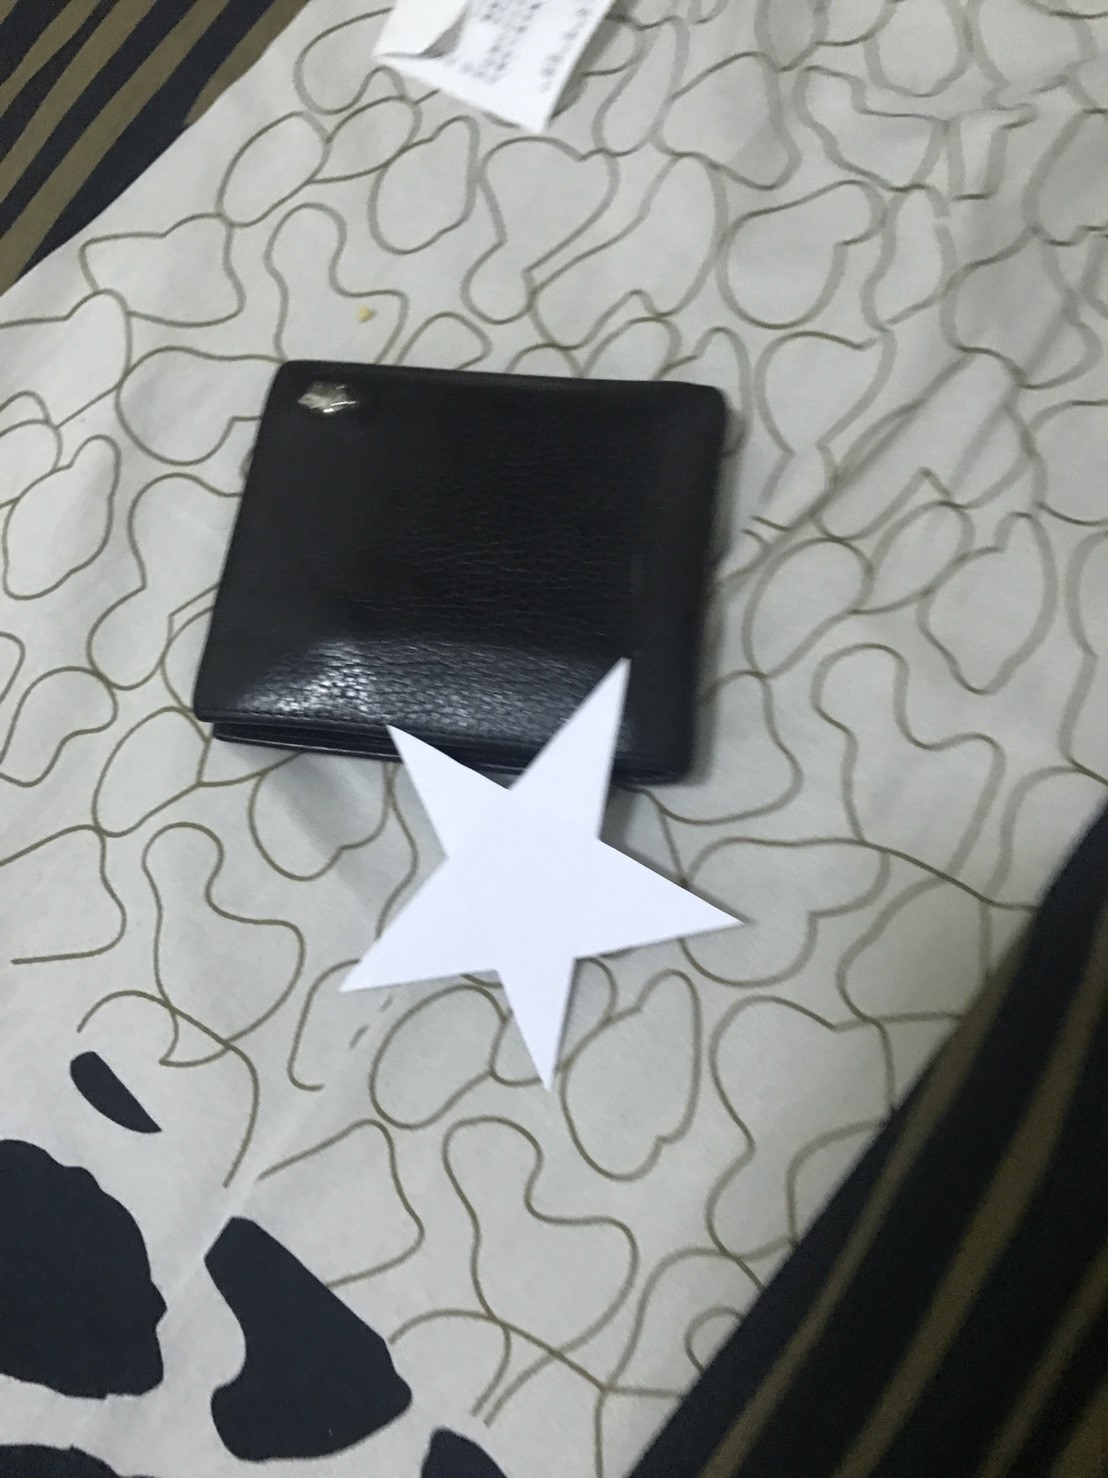star: (346, 666, 767, 1100)
